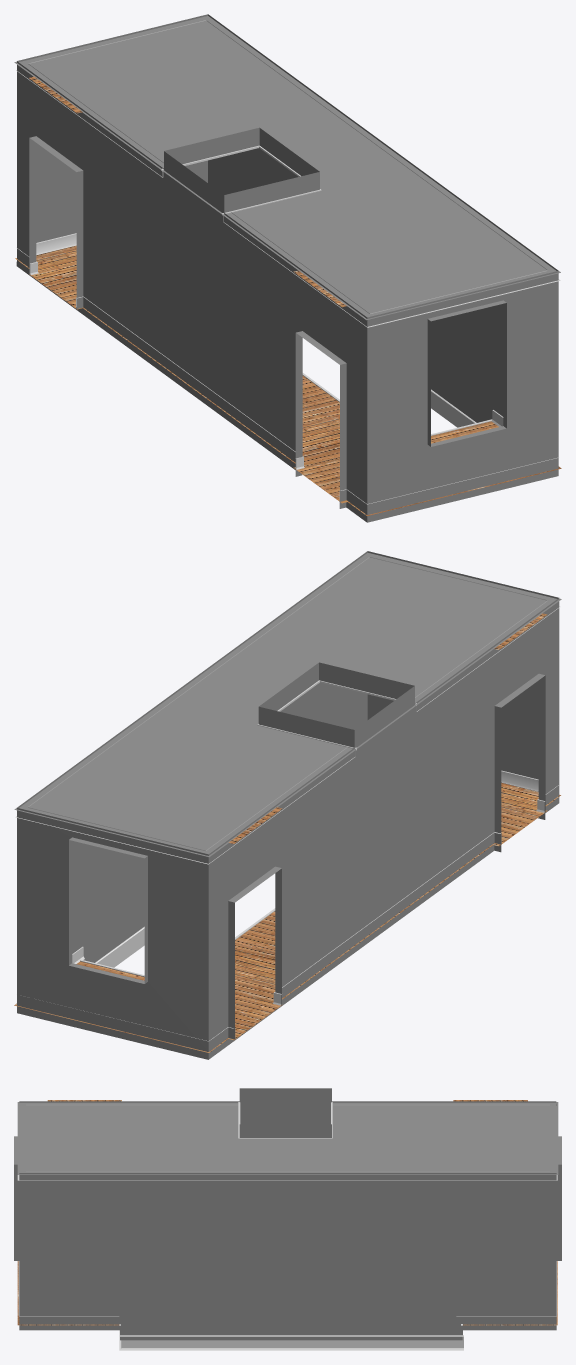
Rendered from BUILDING_stairwellRoof_02.FBX.
3 views of the same model, one above another, from view 1: azimuth 30°, elevation 25°; view 2: azimuth 150°, elevation 25°; view 3: azimuth 270°, elevation 25° (orthographic). The views are drawn at different scales.
Visible parts, largest first — view 1: BUILDING_stairwellRoof_02_walls, BUILDING_stairwellRoof_02_ceiling, BUILDING_stairwellRoof_02_floor, BUILDING_stairwellRoof_02_topEdge, BUILDING_stairwellRoof_02_plinthe, BUILDING_stairwellRoof_02_stairsTransition; view 2: BUILDING_stairwellRoof_02_walls, BUILDING_stairwellRoof_02_ceiling, BUILDING_stairwellRoof_02_floor, BUILDING_stairwellRoof_02_topEdge, BUILDING_stairwellRoof_02_plinthe, BUILDING_stairwellRoof_02_stairsTransition; view 3: BUILDING_stairwellRoof_02_walls, BUILDING_stairwellRoof_02_ceiling, BUILDING_stairwellRoof_02_stairsTransition, BUILDING_stairwellRoof_02_topEdge, BUILDING_stairwellRoof_02_floor, BUILDING_stairwellRoof_02_plinthe.
Part boxes in pixels (x1,y1,x2,y2): BUILDING_stairwellRoof_02_walls: [16, 14, 558, 522]; BUILDING_stairwellRoof_02_ceiling: [14, 16, 560, 320]; BUILDING_stairwellRoof_02_floor: [15, 76, 561, 515]; BUILDING_stairwellRoof_02_topEdge: [16, 20, 560, 327]; BUILDING_stairwellRoof_02_plinthe: [16, 233, 558, 504]; BUILDING_stairwellRoof_02_stairsTransition: [431, 389, 476, 427]; BUILDING_stairwellRoof_02_walls: [17, 551, 559, 1059]; BUILDING_stairwellRoof_02_ceiling: [14, 553, 561, 857]; BUILDING_stairwellRoof_02_floor: [14, 613, 560, 1052]; BUILDING_stairwellRoof_02_topEdge: [15, 557, 560, 864]; BUILDING_stairwellRoof_02_plinthe: [72, 770, 559, 1041]; BUILDING_stairwellRoof_02_stairsTransition: [95, 926, 144, 967]; BUILDING_stairwellRoof_02_walls: [14, 1088, 561, 1340]; BUILDING_stairwellRoof_02_ceiling: [17, 1102, 558, 1174]; BUILDING_stairwellRoof_02_stairsTransition: [119, 1330, 463, 1350]; BUILDING_stairwellRoof_02_topEdge: [17, 1104, 557, 1180]; BUILDING_stairwellRoof_02_floor: [17, 1100, 557, 1325]; BUILDING_stairwellRoof_02_plinthe: [18, 1261, 556, 1316].
Size of the model in its own units: 440 by 515 by 1351.
2 materials, 1 textured.
